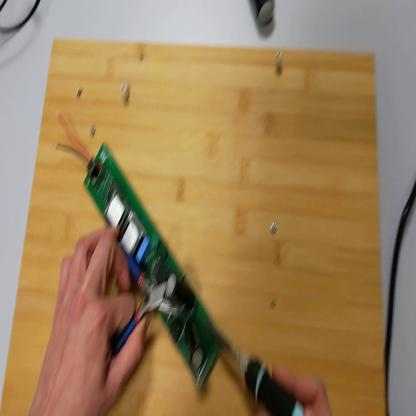hand: (36, 225, 149, 416), (269, 362, 332, 415)
high voltage board: (56, 112, 229, 391)
pliers: (119, 241, 179, 356)
screwdriver-: (253, 3, 276, 34)
welder probe tip: (208, 315, 304, 416)
working area: (2, 39, 386, 416)
